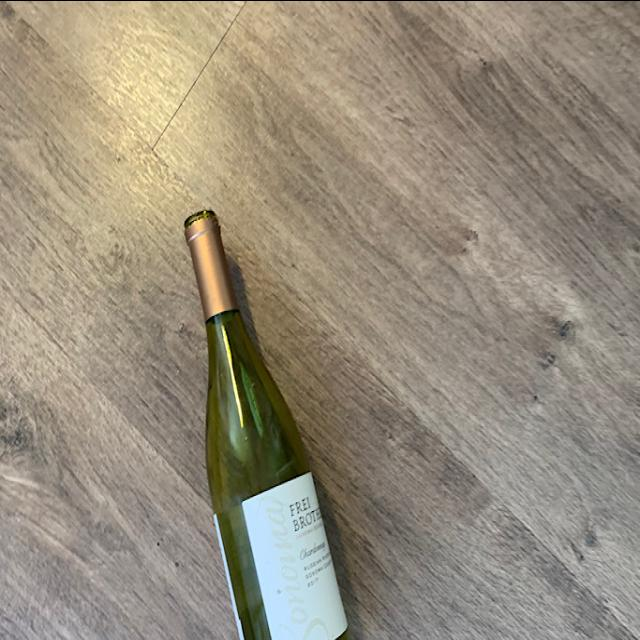Glass Bottle: (182, 201, 346, 640)
